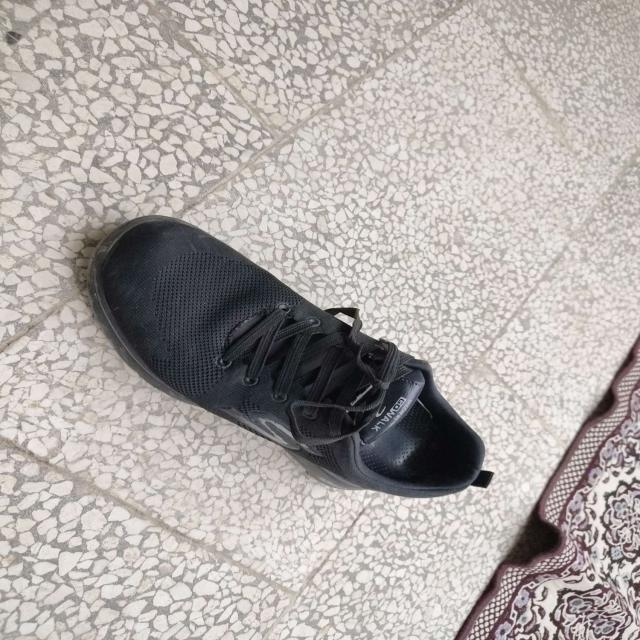shoe: (89, 213, 490, 500)
